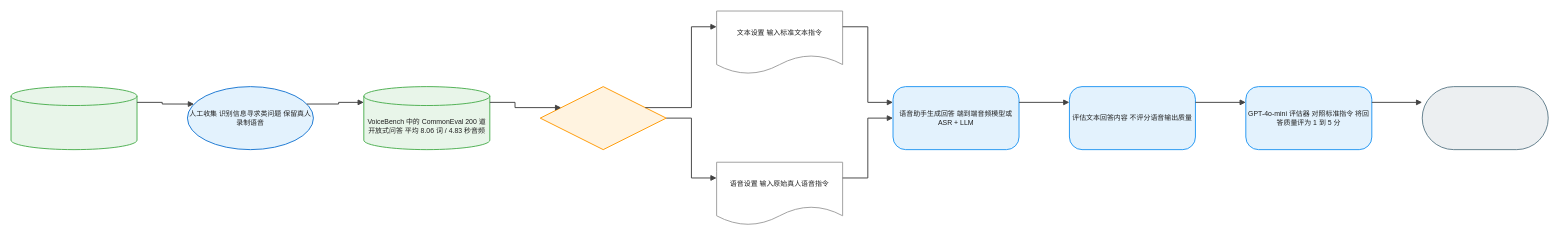
Some shapes in this 1560 by 237 pixel diagram are drawn without their labels. The shapes that lost their labels are listed below. From the top down, each one's centre as x and y in pixels, then its label:
At [73,118]: "Mozilla Common Voice 多样说话人与个人设备 真实录音条件".
At [602,118]: "真人语音子集".
At [1484,118]: "报告 CommonEval GPT 得分 比较文本、语音及处理差距".
